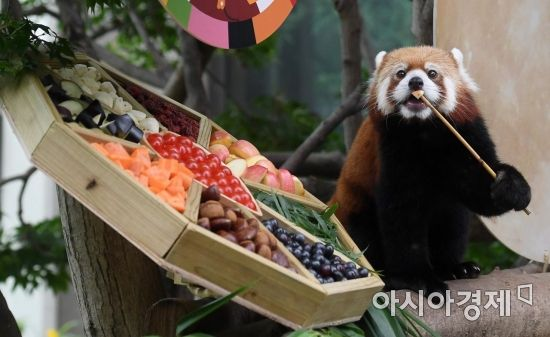redPanda: (329, 37, 533, 281)
